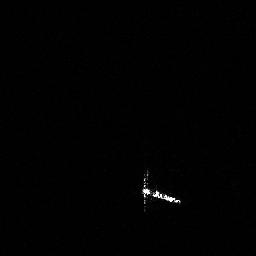ship: (142, 186, 181, 204)
